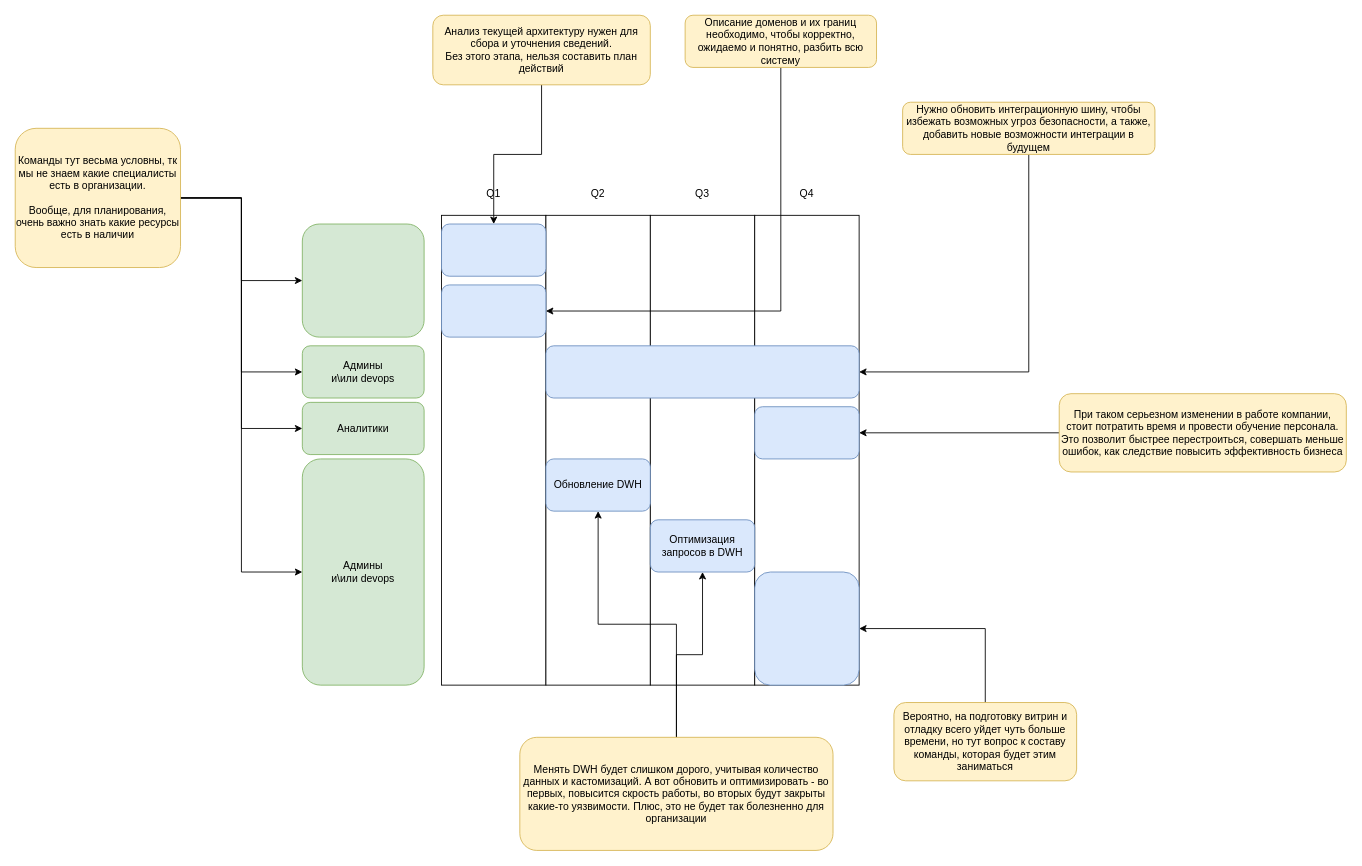
This 1362x866 diagram has some shape labels left out. Here are the shapes that lost their labels. From the top down, the centre of each, then its label:
At point 493,249: "Анализ текущей архитектуры".
At point 362,280: "Рабочая группа по архитектуре".
At point 493,310: "Определение доменов".
At point 702,371: "Внедрение современных интеграционных решений".
At point 806,432: "Обучение персонала".
At point 806,628: "Развертывание Datalakehouse и витрин данных".
